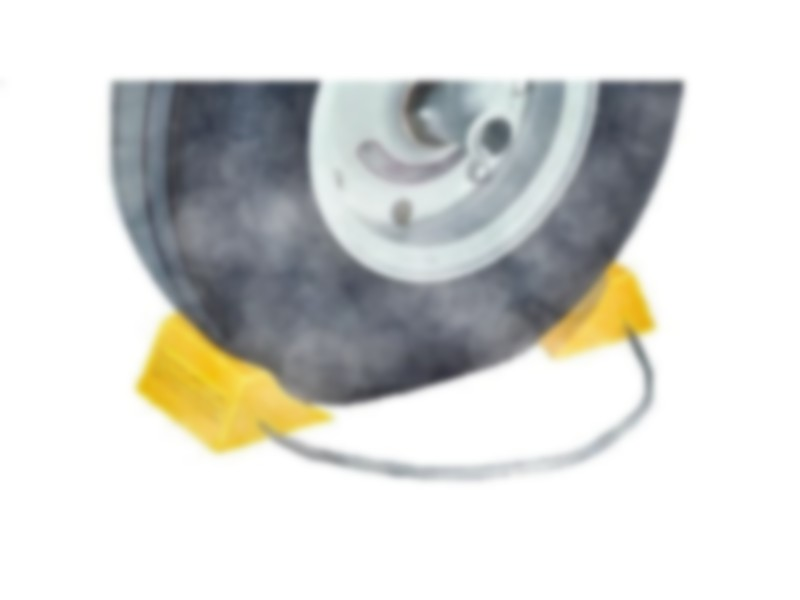chock: (135, 311, 335, 454), (518, 250, 657, 360)
wheel: (108, 83, 686, 408)
